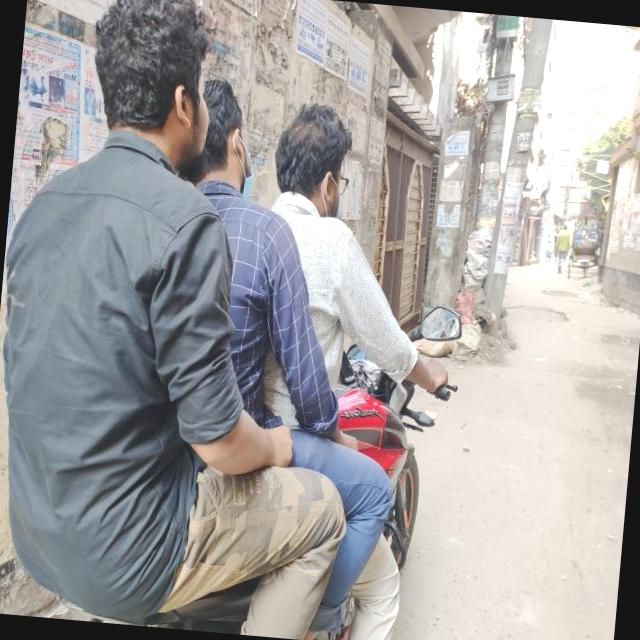motorcycle: (318, 297, 476, 564)
person: (0, 0, 226, 621), (188, 77, 410, 577), (172, 76, 354, 487)
